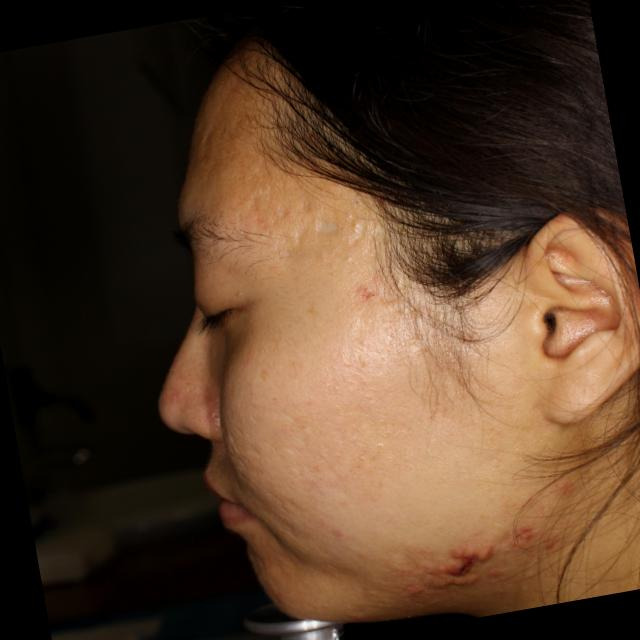nodule: (427, 571, 480, 592), (476, 545, 494, 562), (406, 584, 424, 596), (462, 547, 476, 561), (451, 547, 465, 559)
